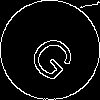G: (25, 25, 86, 85)
